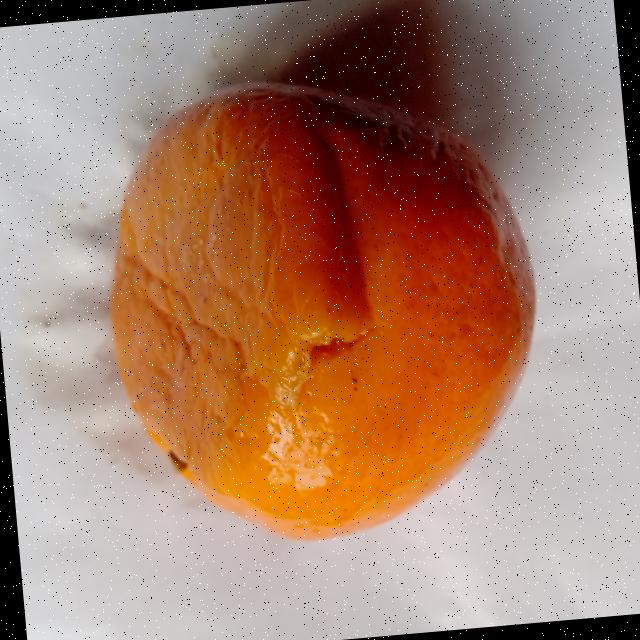Rotten: (92, 62, 552, 559)
